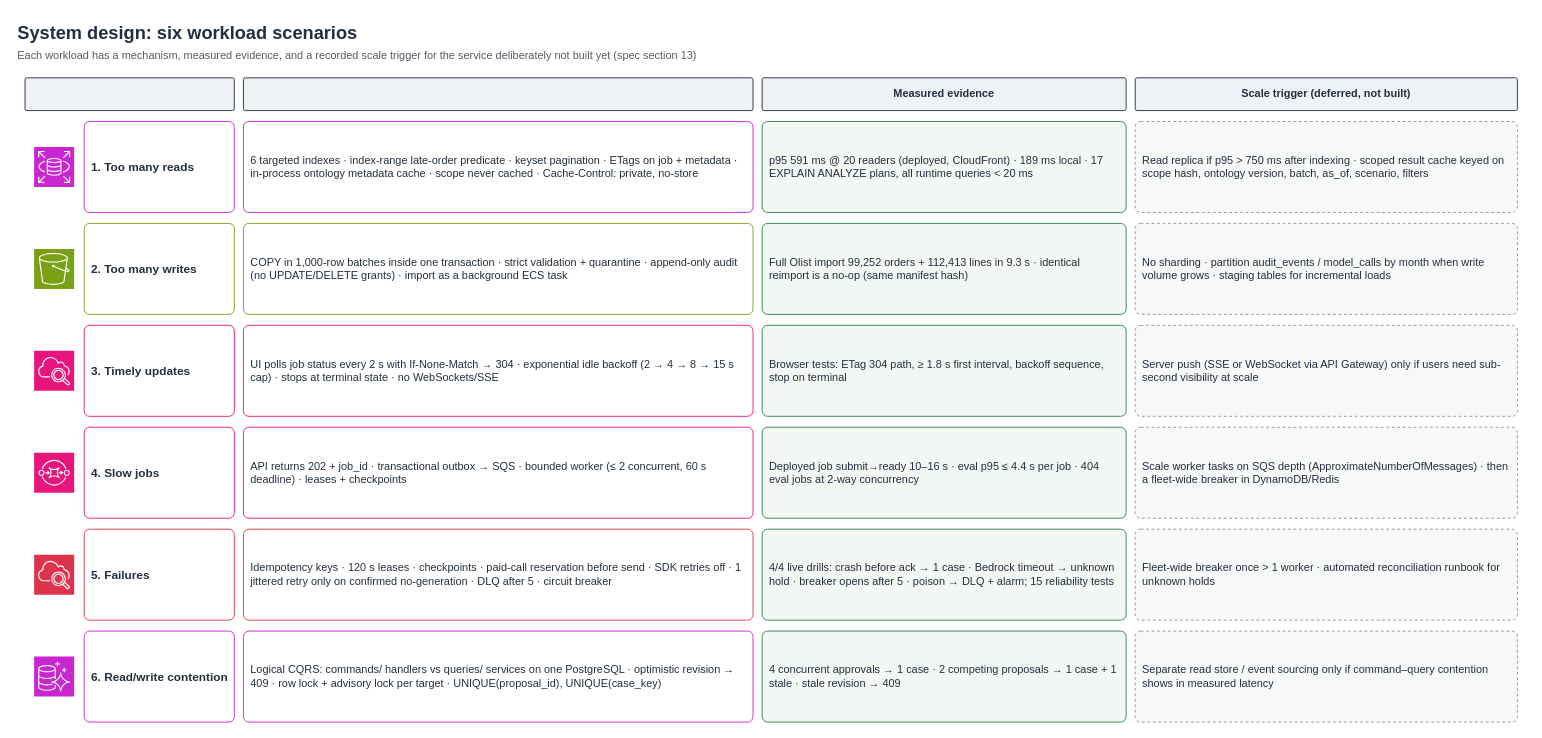
The diagram is 1542 pixels wide and 738 high, and some of its shapes have lost their labels. The shapes that lost their labels are listed below. From the top down, each one's centre as x and y in pixels, then its label:
At (x=129, y=94): "Scenario".
At (x=498, y=94): "Mechanism (built)".
